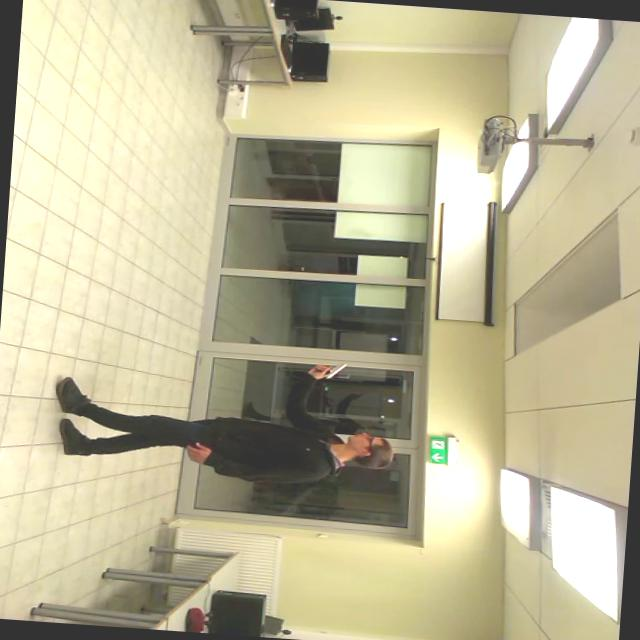handgun: (302, 352, 352, 386)
